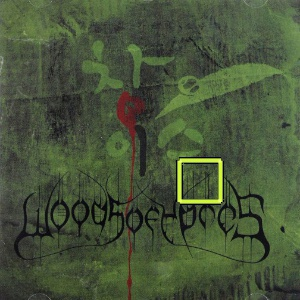square: (174, 156, 225, 205)
